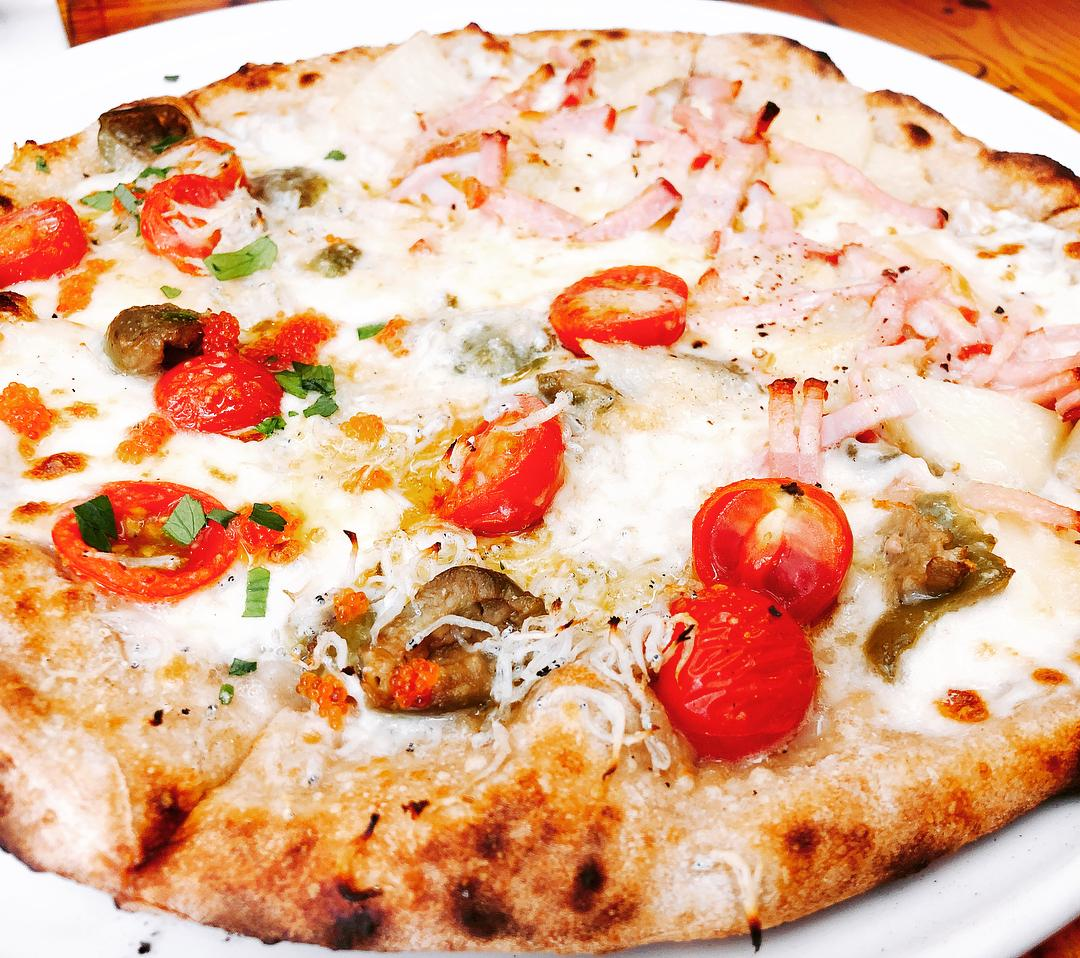Ham: (548, 72, 772, 240), (859, 264, 1080, 424), (374, 67, 593, 185), (767, 123, 956, 248), (725, 379, 923, 488), (929, 448, 1080, 537)
Mushroom: (354, 563, 567, 723), (862, 494, 1020, 695), (100, 297, 208, 382), (77, 96, 203, 162)
Pizza: (0, 20, 1080, 958)
Tomatoes: (630, 580, 823, 767), (40, 468, 236, 618), (693, 468, 861, 629), (410, 385, 572, 543), (547, 257, 702, 367), (124, 165, 260, 278), (169, 343, 287, 442), (0, 194, 99, 297)
